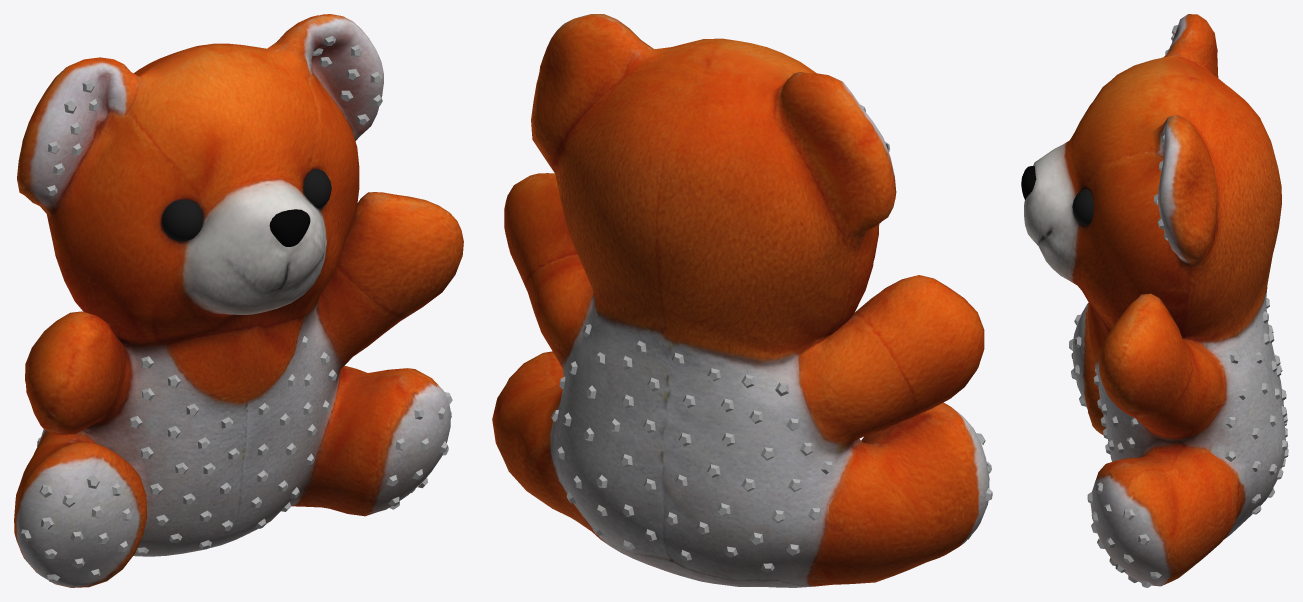
File: plush_bear.fbx
3 renders of one model, left to right at view 1: azimuth 30°, elevation 25°; view 2: azimuth 150°, elevation 25°; view 3: azimuth 270°, elevation 25°, orthographic. The views are drawn at different scales.
Parts seen in each view (by area): view 1: model; view 2: model; view 3: model.
Part boxes in pixels (x1,y1,x2,y2): model: (14, 14, 463, 587); model: (492, 14, 992, 587); model: (1021, 14, 1288, 587).
Size of the model in its own units: 535 by 564 by 303.
Materials: 4 (1 with a texture image).
